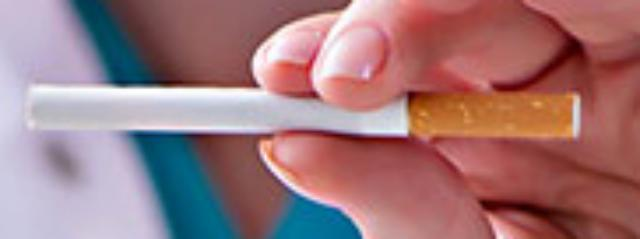Cigarette: (21, 81, 576, 133)
